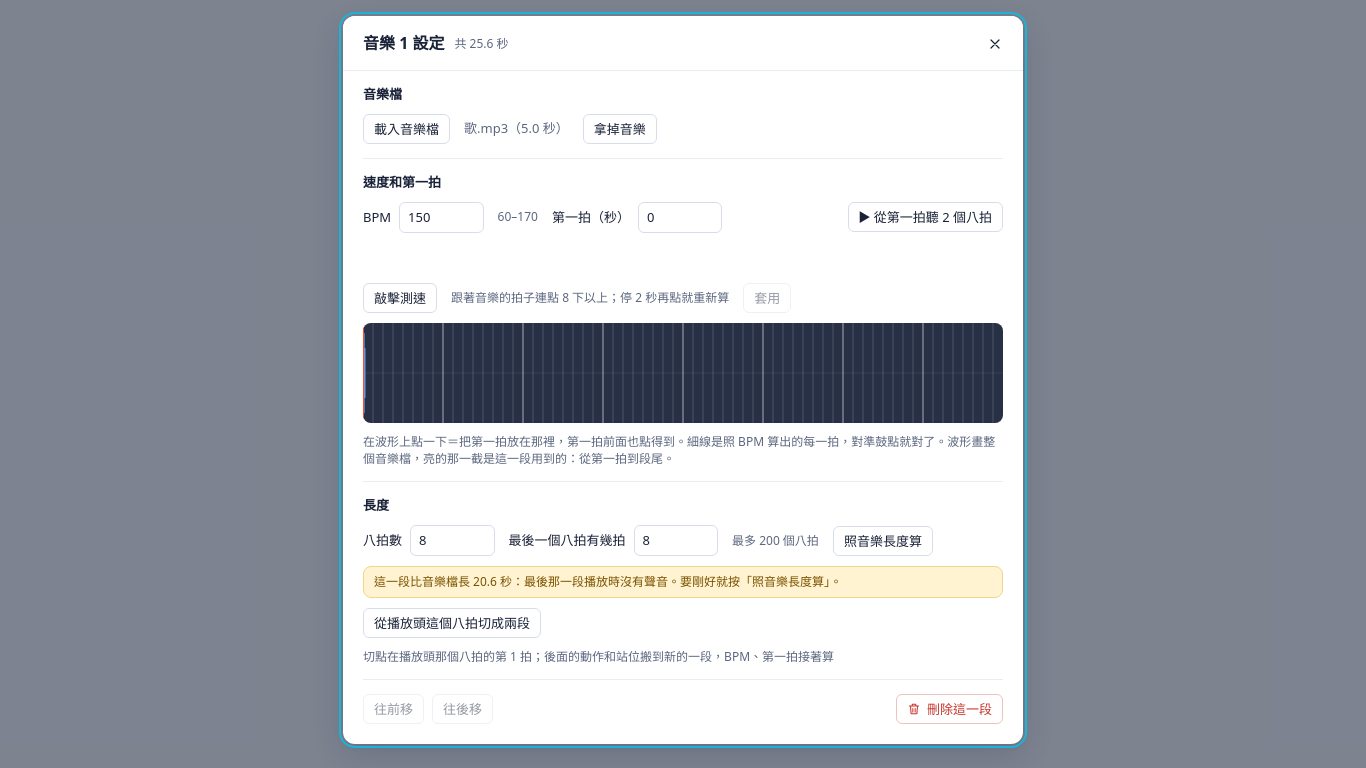
Test: 音樂段設定 › 點波形點到音樂結束之後：一樣擋下來
The image size is (1366, 768).
Click the picture named "波形" at x=683, y=372, box [363,322,1003,422]
(page scrolled)
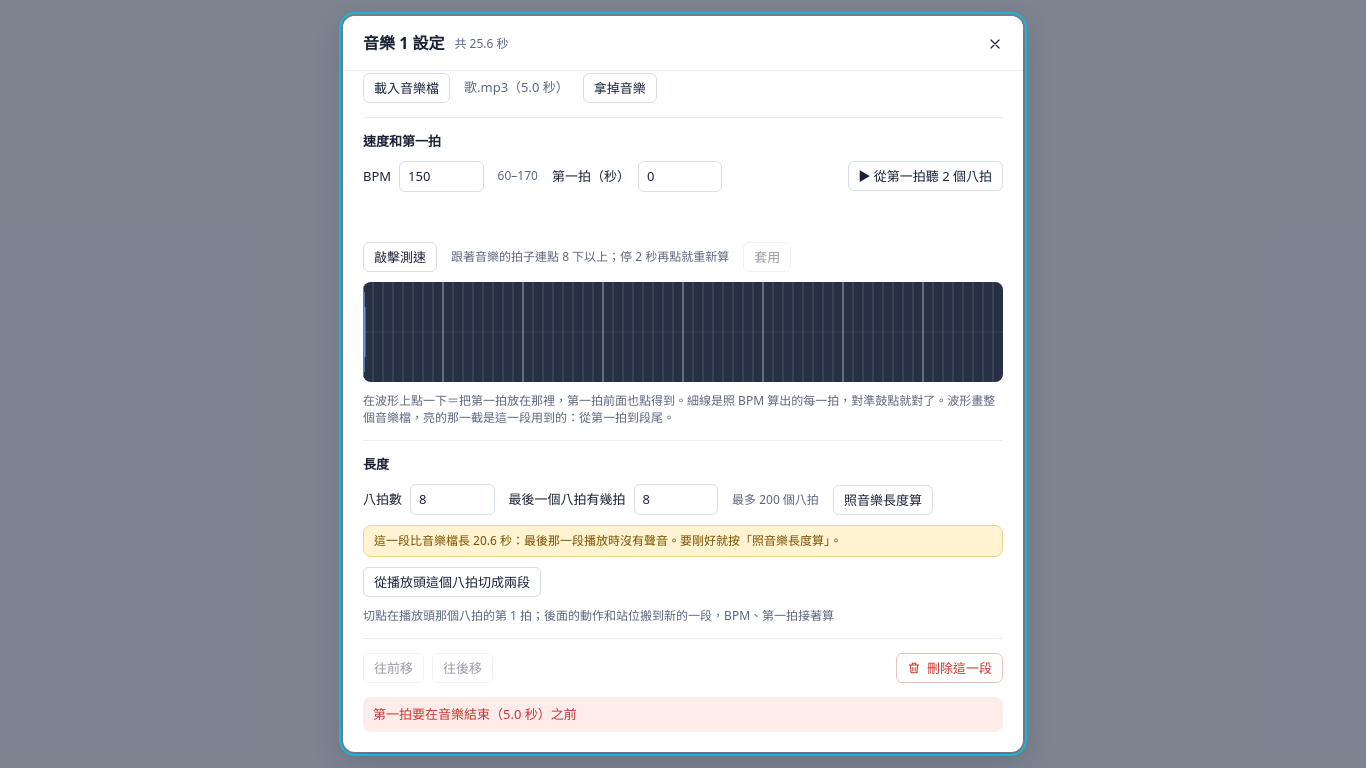
Result: the message reads "第一拍要在音樂結束（5.0 秒）之前" at [373,705,577,723]
